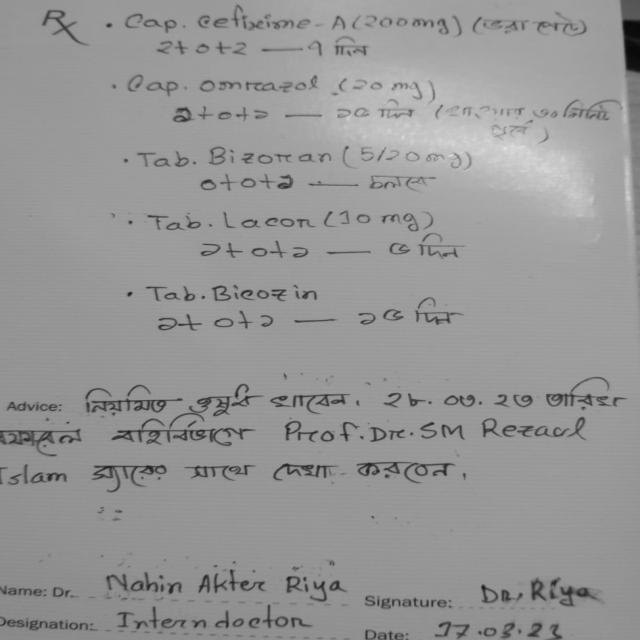medicine: (202, 276, 328, 312), (192, 10, 356, 37), (204, 136, 342, 168), (190, 70, 332, 101), (221, 208, 321, 238)
